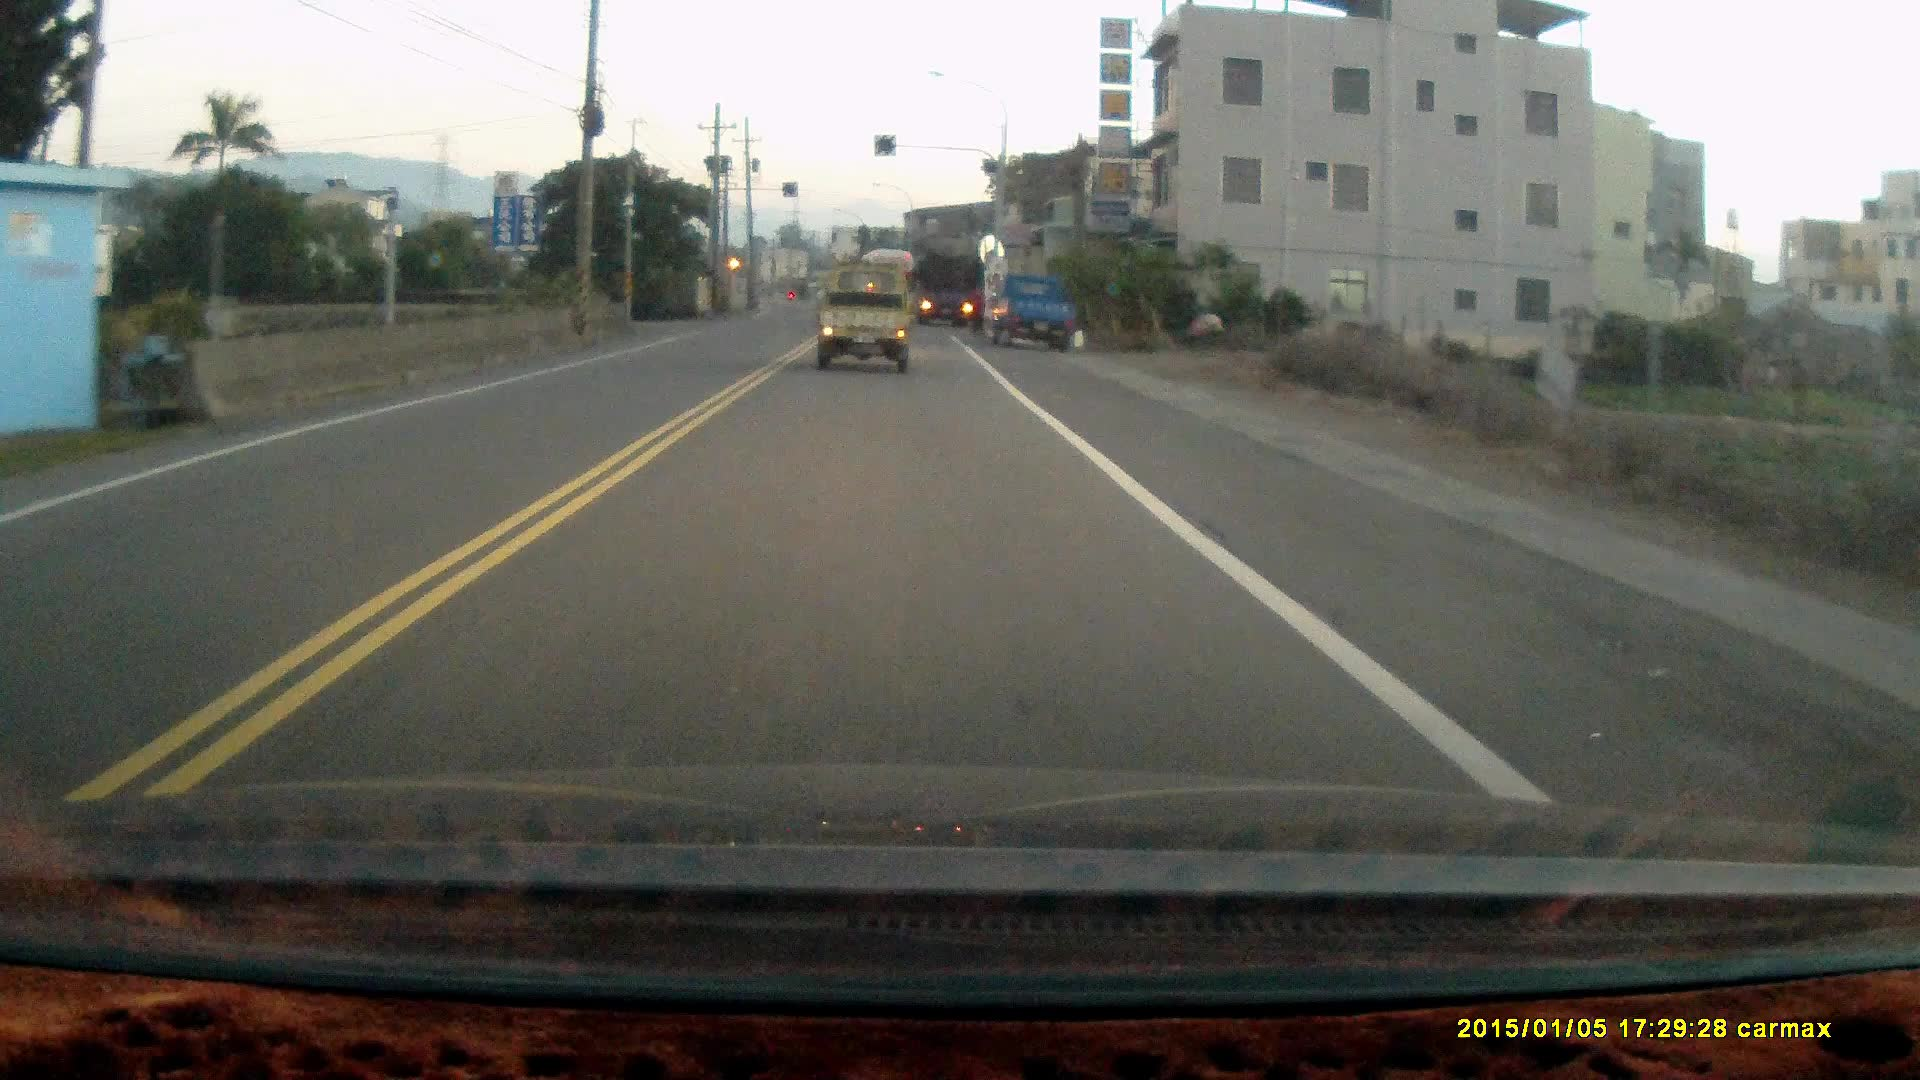vehicle: (812, 265, 916, 384), (985, 272, 1091, 349), (916, 255, 986, 328)
